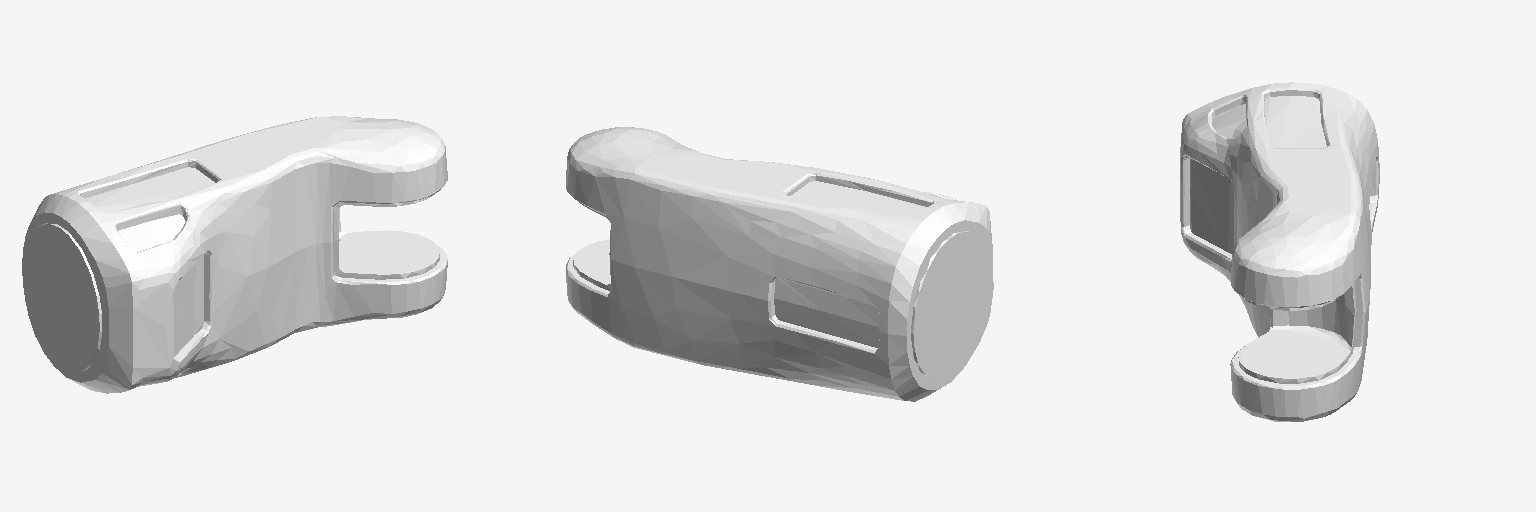
File: forearm.obj
3 views of the same model, side by side, from view 1: azimuth 30°, elevation 25°; view 2: azimuth 150°, elevation 25°; view 3: azimuth 270°, elevation 25° (orthographic).
Size of the model in its own units: 2.64 by 1.2 by 1.21.